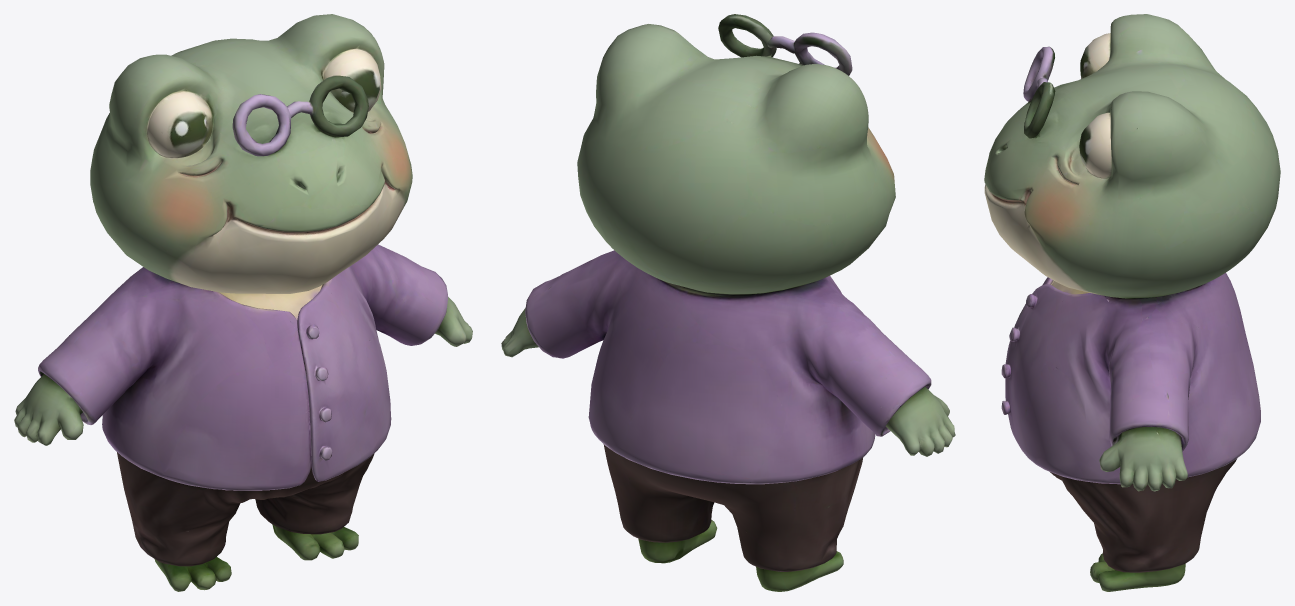
Rendered from npc_ba_ba.glb.
3 views of the same model, side by side, from view 1: azimuth 30°, elevation 25°; view 2: azimuth 150°, elevation 25°; view 3: azimuth 270°, elevation 25° (orthographic). The views are drawn at different scales.
Visible parts, largest first — view 1: node_0; view 2: node_0; view 3: node_0.
Boxes of the visible parts, x1,y1,x2,y2 form: node_0: (14,14,472,591); node_0: (501,14,955,591); node_0: (984,14,1280,591).
Size of the model in its own units: 1.01 by 1.12 by 0.6118.
Materials: 1 (1 with a texture image).
